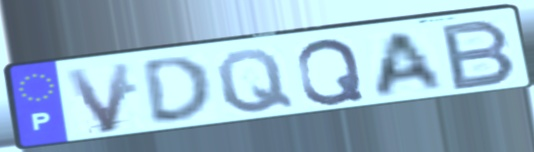A: (372, 28, 449, 100)
B: (439, 16, 520, 94)
D: (138, 54, 217, 126)
Q: (213, 47, 298, 116), (294, 36, 368, 108)
V: (60, 59, 136, 136)
